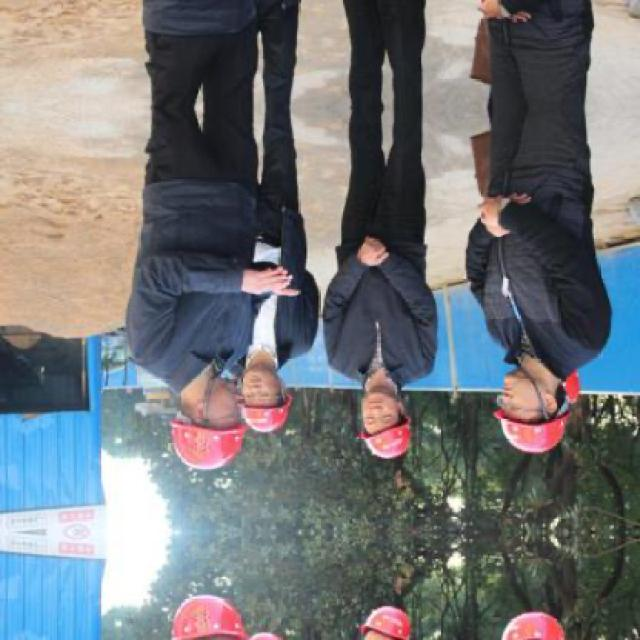con casco: (493, 353, 593, 468), (154, 370, 248, 489), (341, 372, 445, 474), (216, 358, 296, 462)
